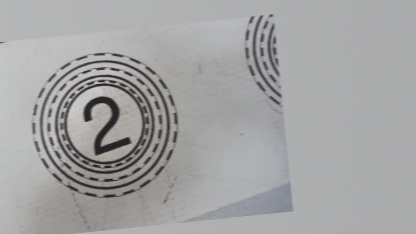2r: (22, 45, 186, 205)
